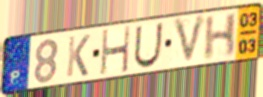8: (34, 37, 60, 85)
H: (202, 10, 240, 63), (100, 25, 132, 77)
K: (65, 33, 92, 79)
U: (132, 21, 165, 70)
V: (171, 12, 209, 68)
